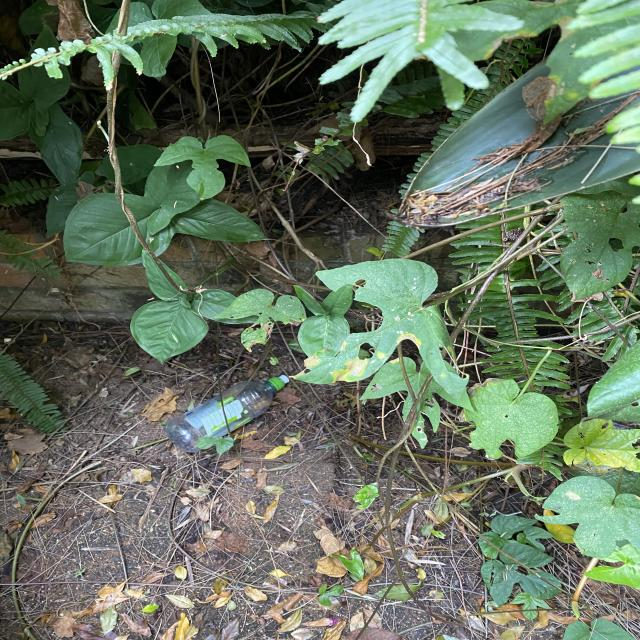bottle: (165, 375, 289, 452)
